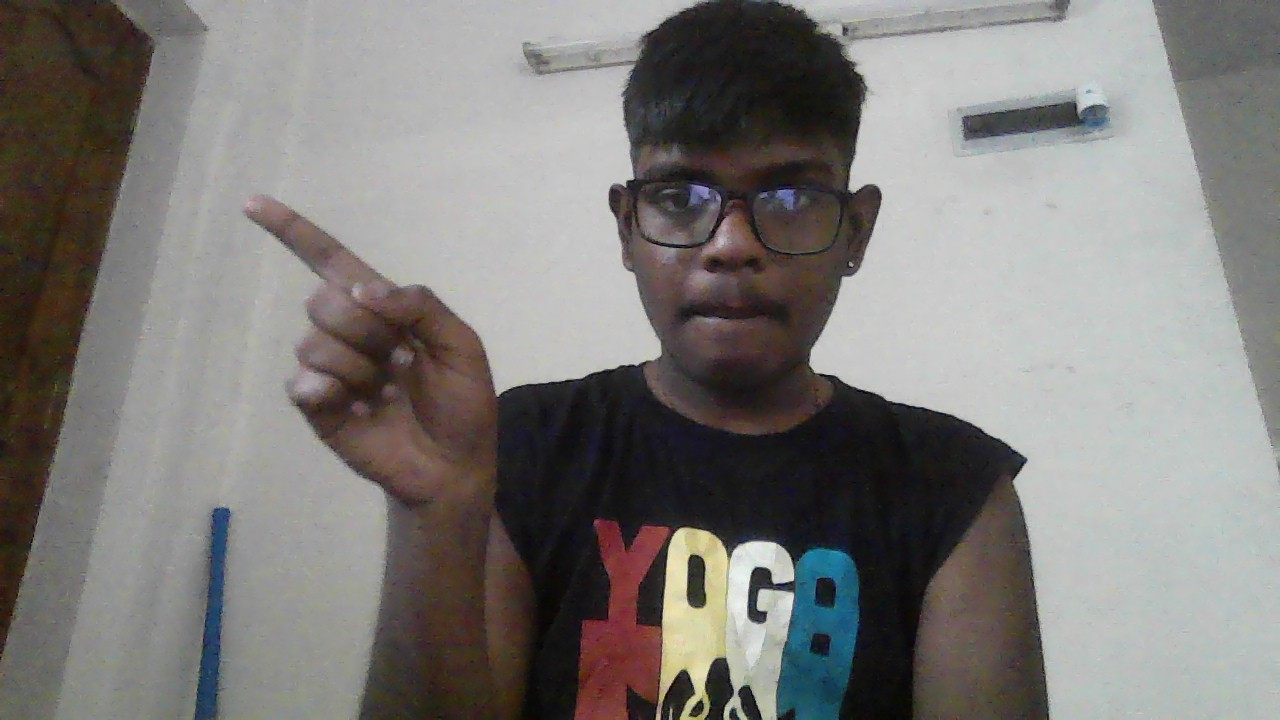Z: (242, 192, 493, 505)
